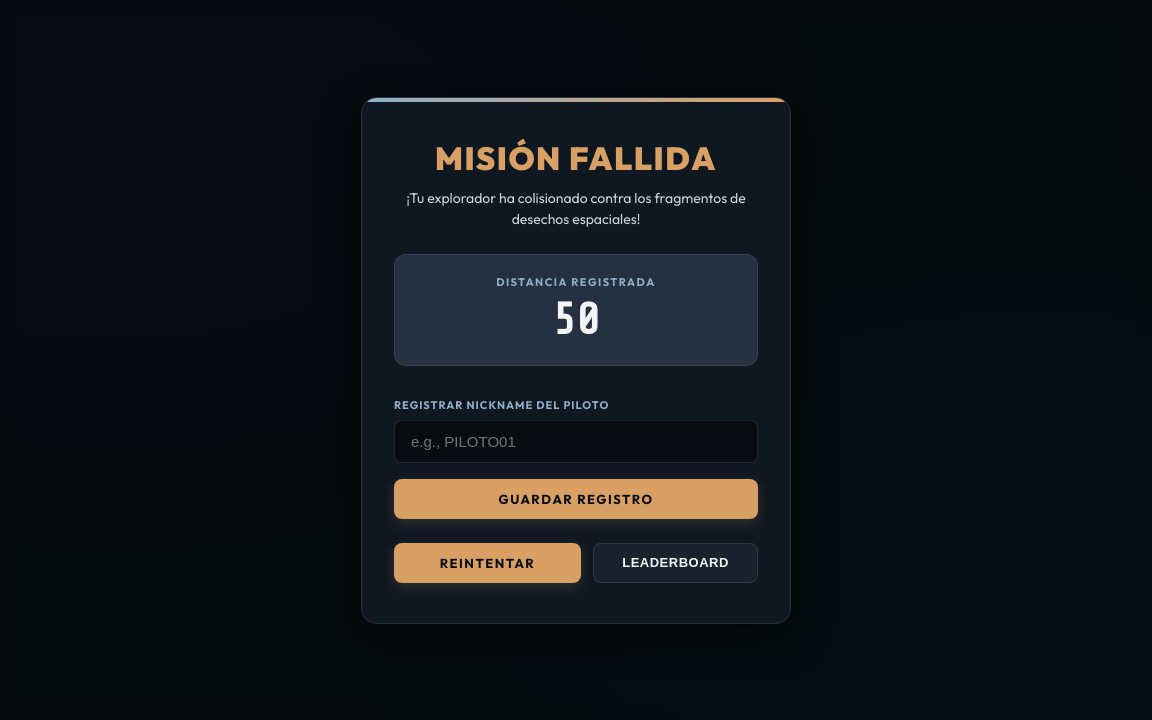
Test: <GameOverModal /> › uses the fetch API directly when no mock is provided (sanity check)
In the field labelled "Registrar Nickname del Piloto": (576, 441) [394,420,758,462], type "REAL_NICK"
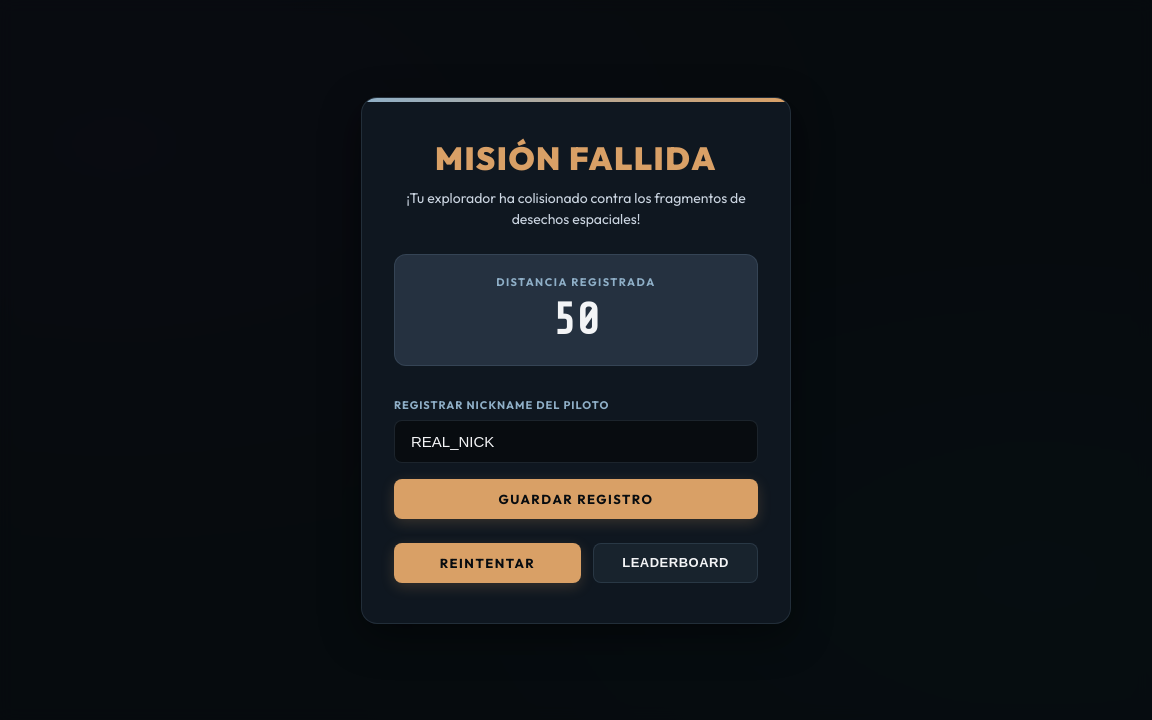
Click the button "Guardar Registro": (576, 498) [394,478,758,518]
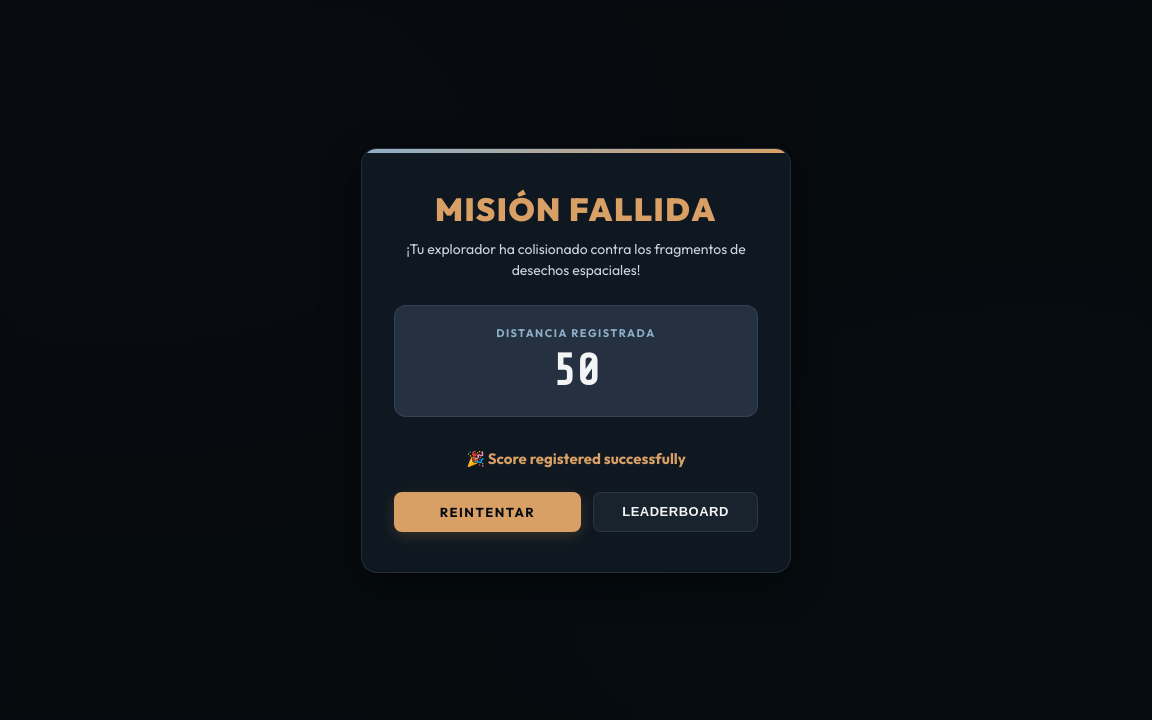
Expected: the text with test id "success-message" shows "registered", [488,448,686,468]
